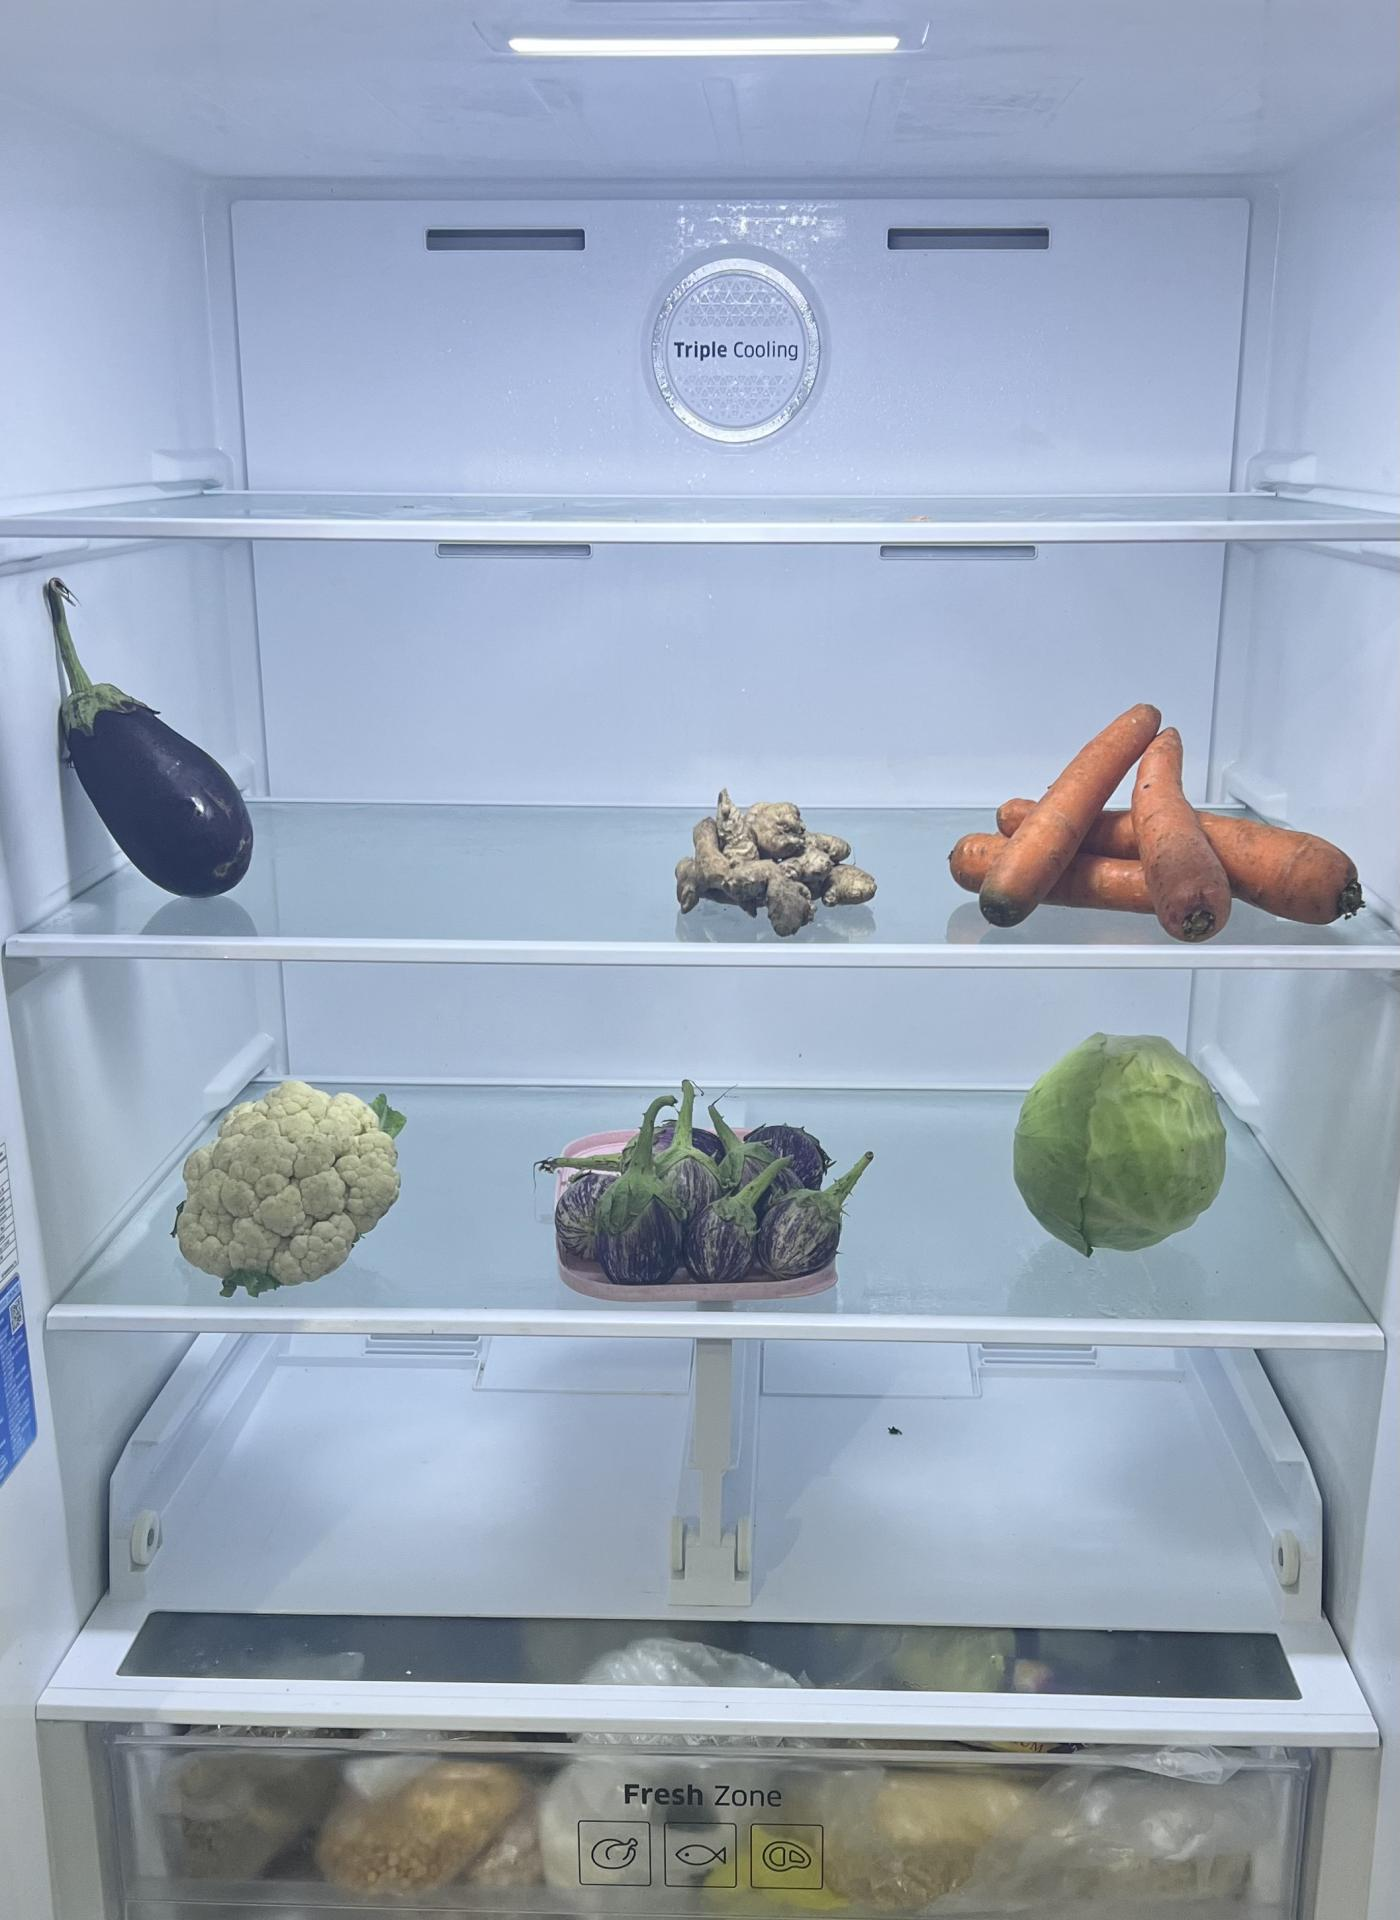brinjal: (26, 575, 257, 901), (556, 1098, 853, 1281)
cabbage: (1009, 1038, 1228, 1257)
carrots: (948, 709, 1369, 948)
cauliflower: (179, 1072, 409, 1282)
ginger: (670, 794, 876, 931)
